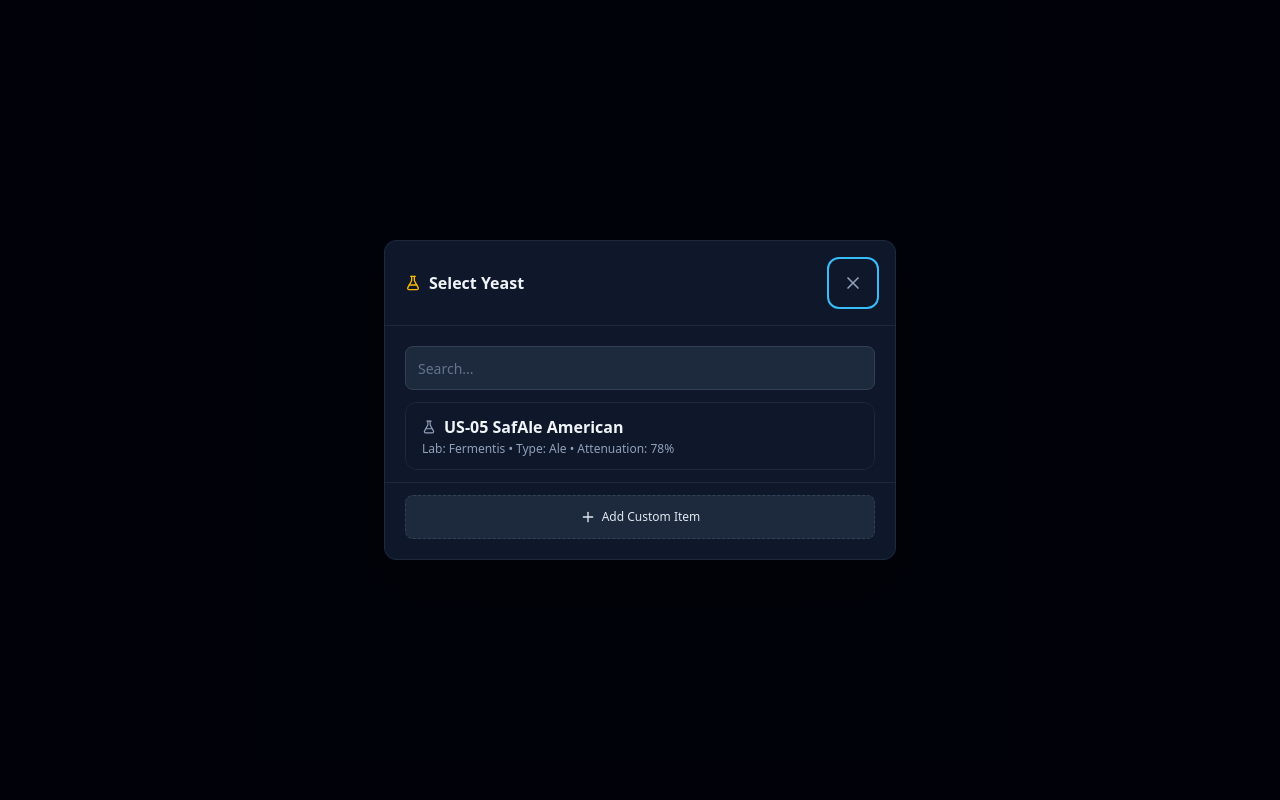
Test case: PresetPickerModal (M12_P1, spec §3.2) › search is case-insensitive and also matches yeast lab / hop-type-like fields
Type "FERMENTIS" into the field with test id "preset-picker-search". click: (640, 368)
box: [405, 346, 875, 390]
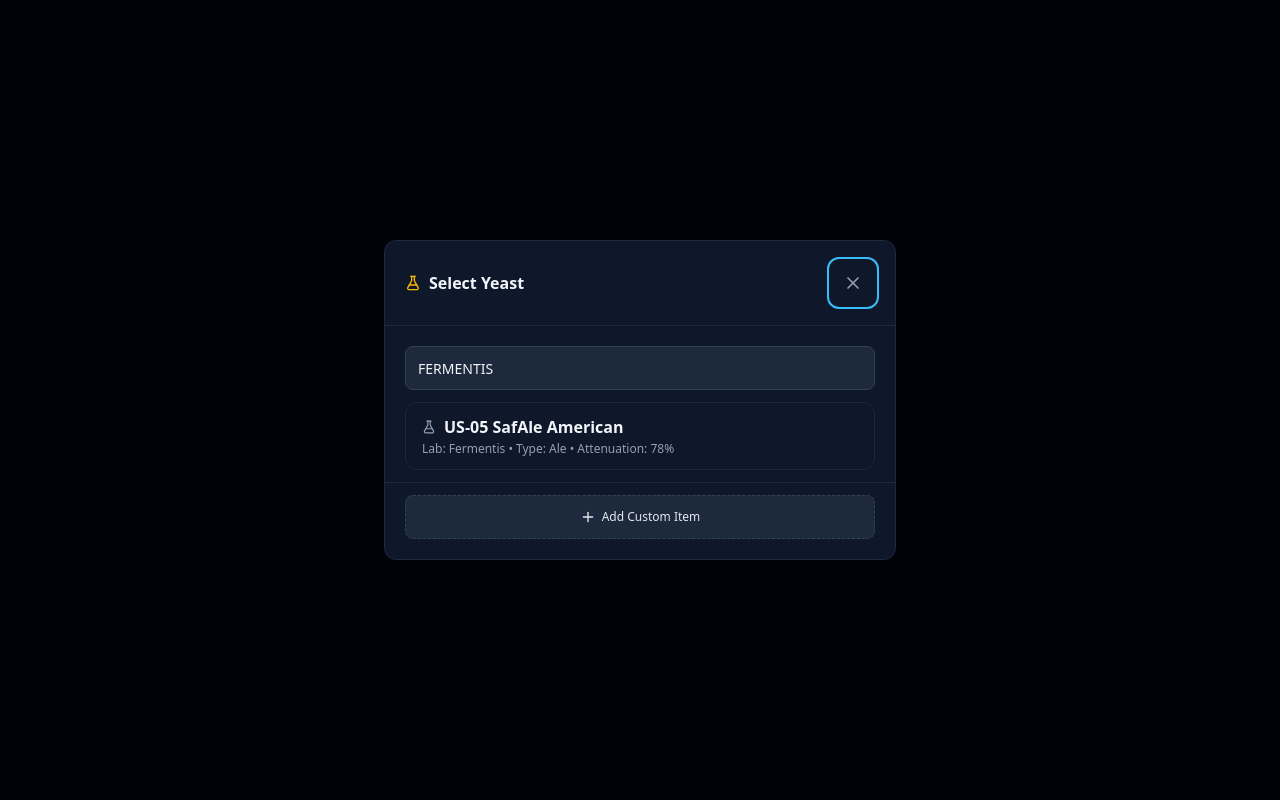
Expected: the button with test id "preset-item-cat-y-1" is shown, [406, 403, 874, 469]
Replace the text in the field with test id "preset-picker-search" with "nonexistent". click: (640, 368)
box: [405, 346, 875, 390]
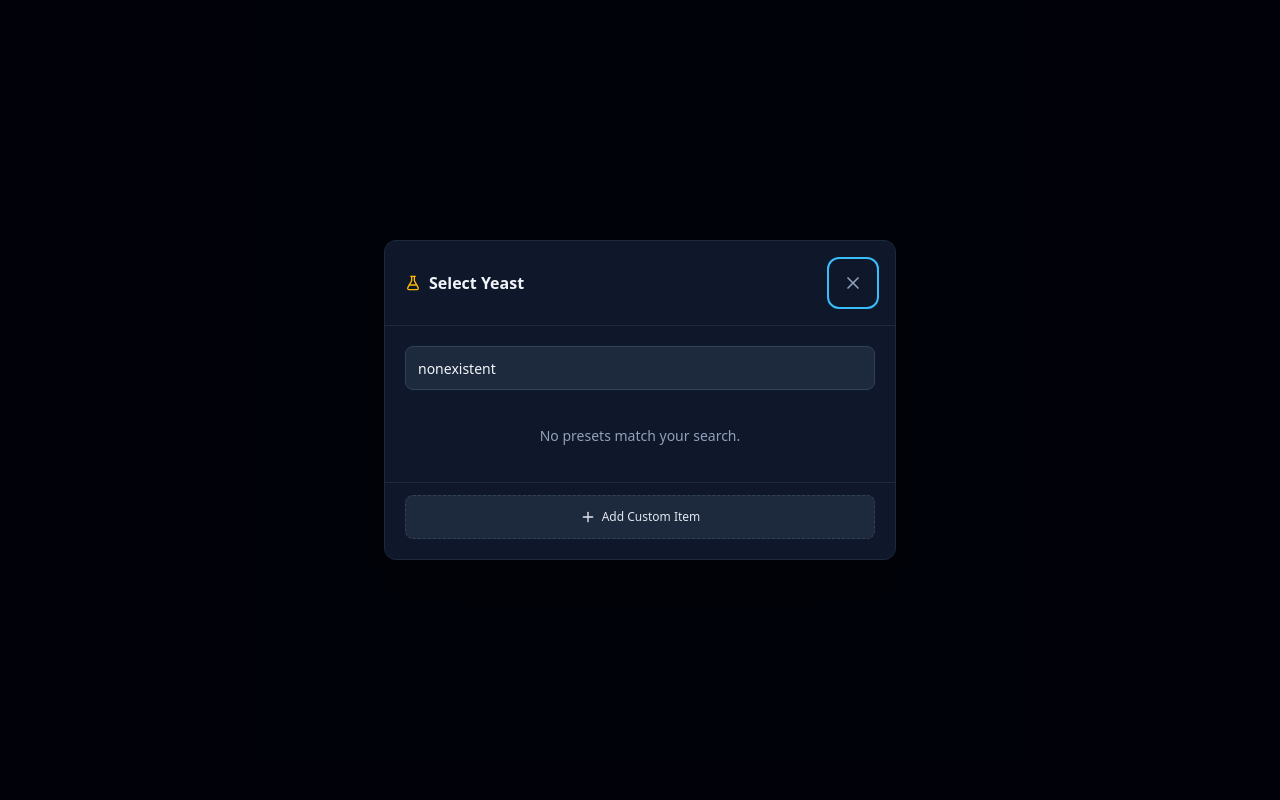
Result: the button with test id "preset-item-cat-y-1" is gone
Result: the text "No presets match your search." is shown at [540, 426, 740, 445]
